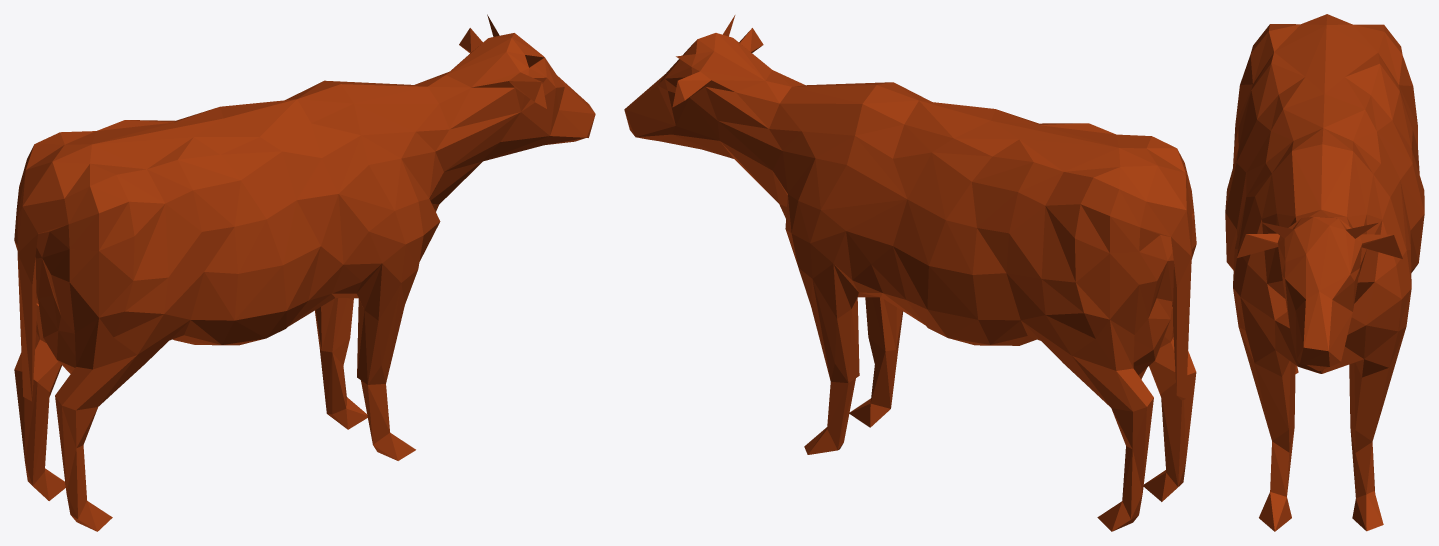
The model's file is cow.obj.
3 renders of one model, left to right at view 1: azimuth 30°, elevation 25°; view 2: azimuth 150°, elevation 25°; view 3: azimuth 270°, elevation 25°, orthographic.
Visible parts, largest first — view 1: grp1.001; view 2: grp1.001; view 3: grp1.001.
Boxes of the visible parts, x1,y1,x2,y2 form: grp1.001: [14, 14, 595, 531]; grp1.001: [624, 15, 1196, 531]; grp1.001: [1225, 14, 1424, 531].
Size of the model in its own units: 1.39 by 0.86 by 0.4175.
